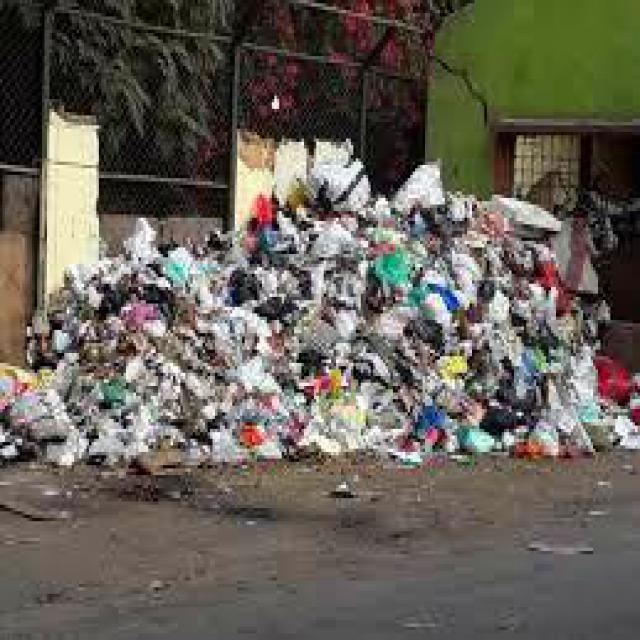garbage: (44, 270, 610, 472), (254, 192, 548, 270), (0, 363, 52, 455)
